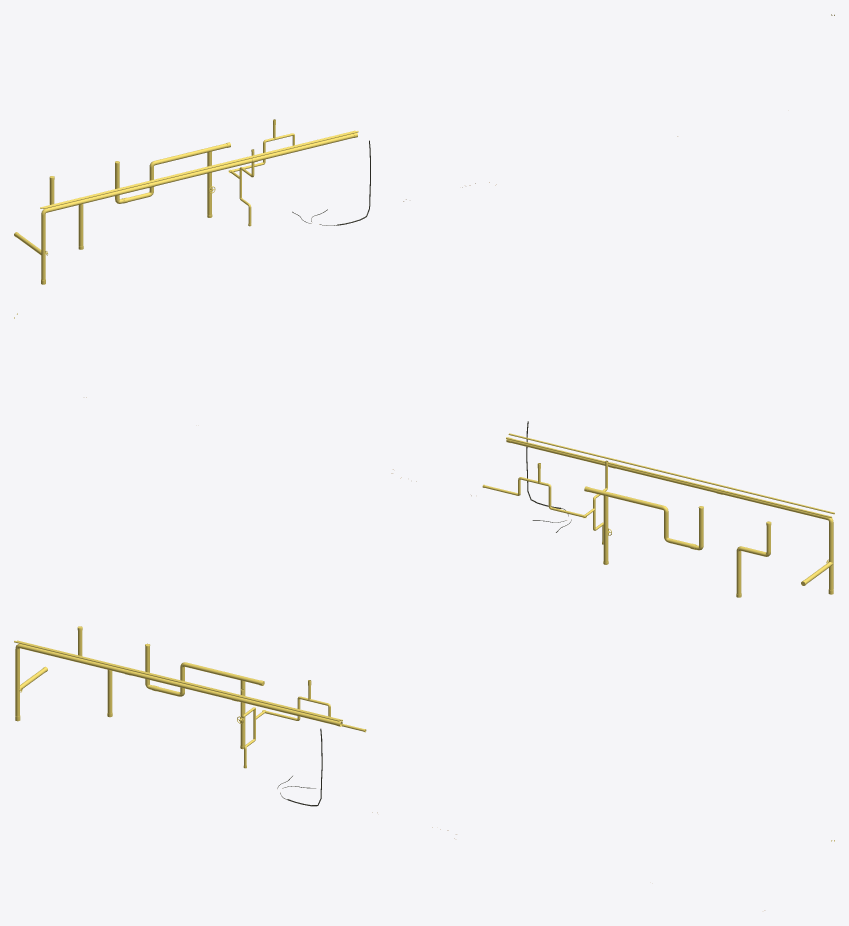
Rendered from tubos e fios cena2.fbx.
The picture shows the model from 3 angles, top to bottom: view 1: azimuth 30°, elevation 25°; view 2: azimuth 150°, elevation 25°; view 3: azimuth 330°, elevation 25°; orthographic projection. The views are drawn at different scales.
Visible parts, largest first — view 1: polySurface1703, polySurface1706, pCylinder14; view 2: polySurface1703, polySurface1706, polySurface1708, pCylinder14, pCylinder13, pCylinder28; view 3: polySurface1703, polySurface1706, pCylinder14.
Boxes of the visible parts, x1=… form: polySurface1703: x1=41, y1=133, x2=357, y2=284; polySurface1706: x1=43, y1=14, x2=834, y2=208; pCylinder14: x1=124, y1=142, x2=230, y2=202; polySurface1703: x1=506, y1=437, x2=833, y2=594; polySurface1706: x1=17, y1=313, x2=834, y2=514; polySurface1708: x1=14, y1=317, x2=831, y2=518; pCylinder14: x1=584, y1=486, x2=695, y2=547; pCylinder13: x1=736, y1=521, x2=771, y2=597; pCylinder28: x1=482, y1=463, x2=586, y2=517; polySurface1703: x1=15, y1=643, x2=342, y2=726; polySurface1706: x1=14, y1=640, x2=832, y2=841; pCylinder14: x1=152, y1=662, x2=264, y2=696.
Size of the model in its own units: 139 by 13.78 by 13.32.
